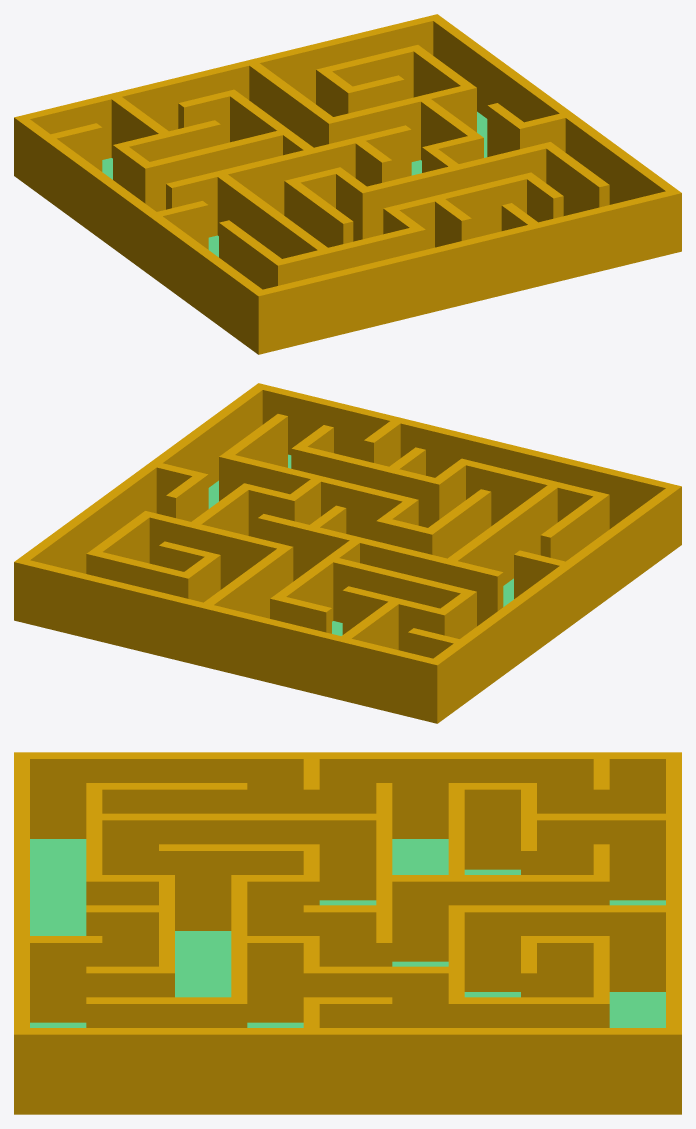
The model's file is Level14Ground.FBX.
The picture shows the model from 3 angles, top to bottom: view 1: azimuth 30°, elevation 25°; view 2: azimuth 150°, elevation 25°; view 3: azimuth 270°, elevation 25°; orthographic projection. The views are drawn at different scales.
Parts seen in each view (by area): view 1: pPlane2; view 2: pPlane2; view 3: pPlane2.
Part boxes in pixels (left/top/right/bottom): pPlane2: left=14, top=14, right=681, bottom=354; pPlane2: left=14, top=383, right=681, bottom=723; pPlane2: left=14, top=752, right=681, bottom=1114.
Bounding box in the file's own units: 212 × 28 × 212.
